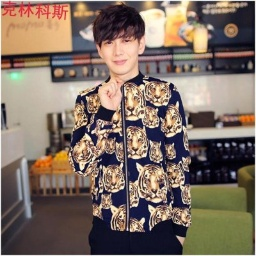face: (95, 4, 147, 75)
